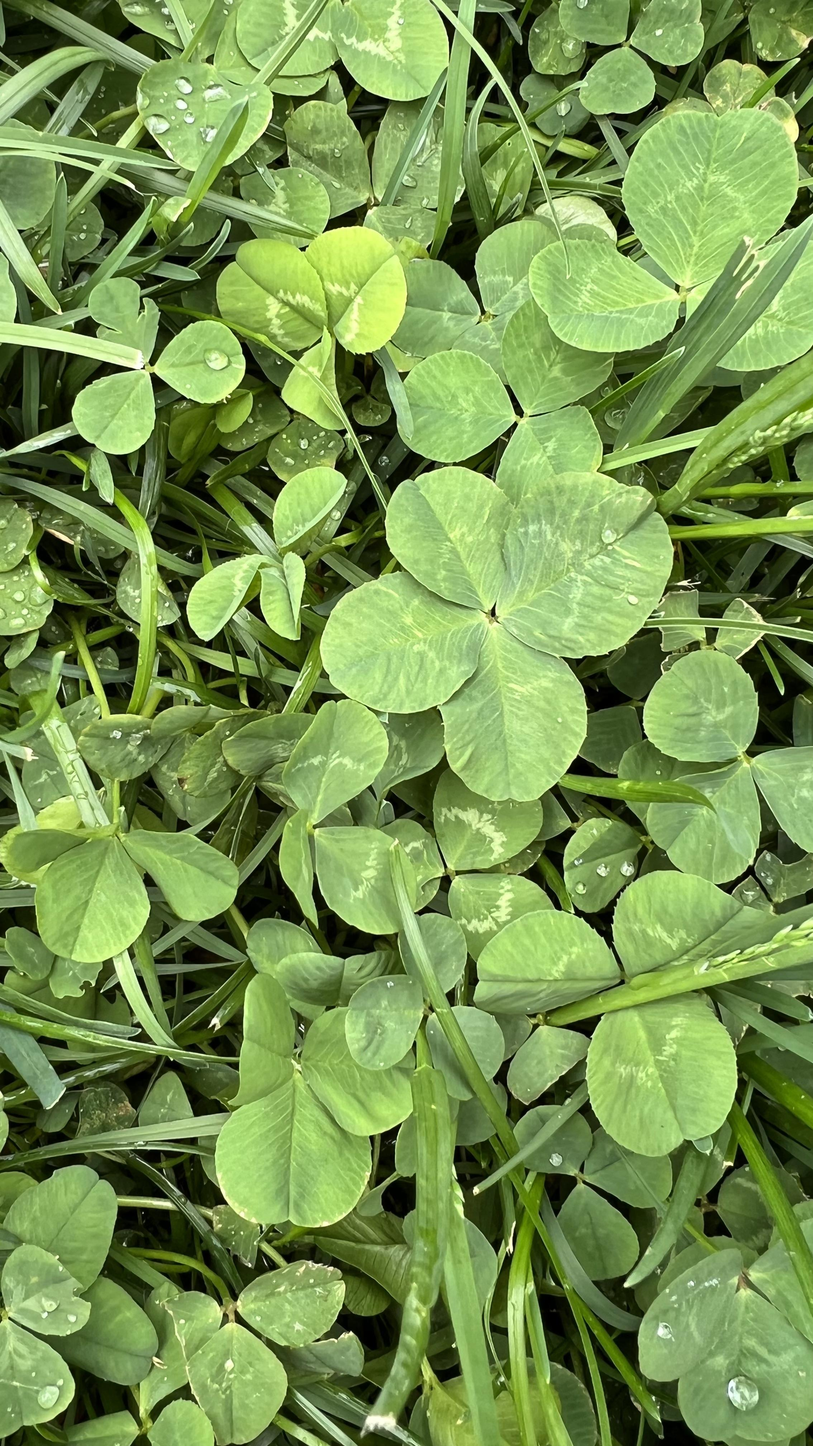4-Leaf-Clovers: (263, 251, 450, 870)
